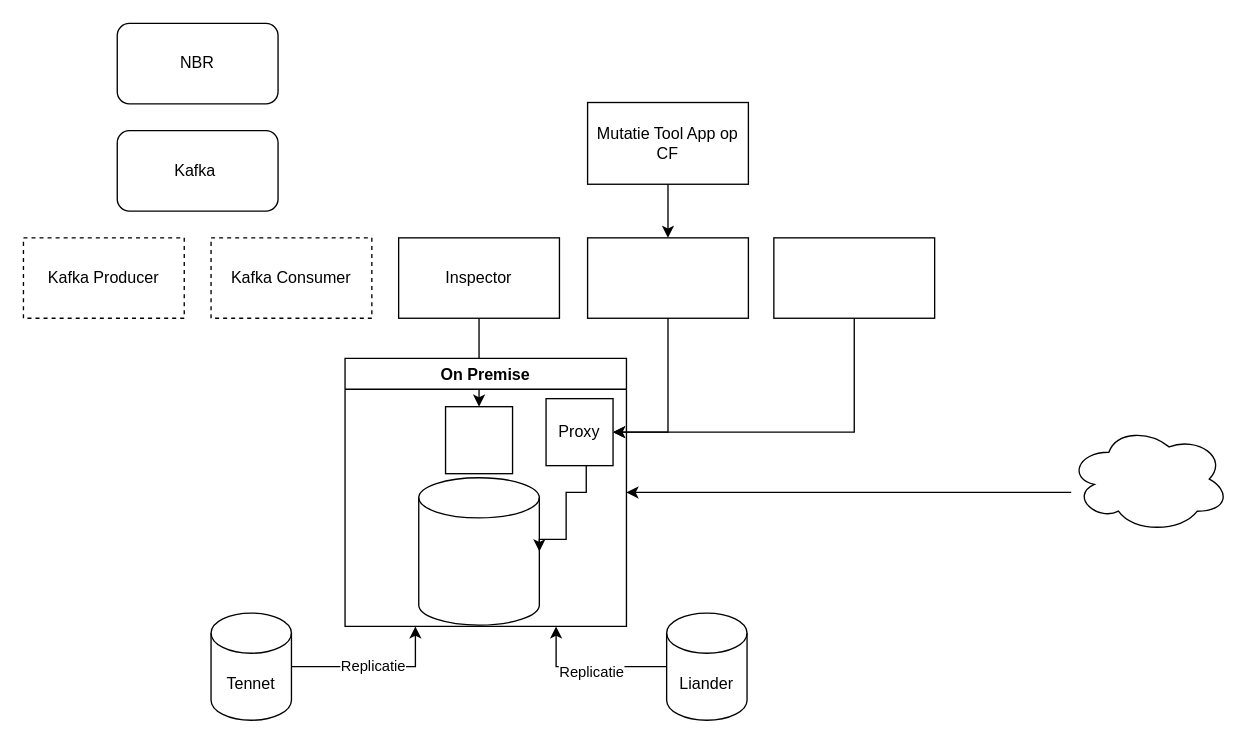
This 1253x744 diagram has some shape labels left out. Here are the shapes that lost their labels. From the top down, the centre of each, then its label:
pixel 667 277: Mutatie Tool Middleware op CF
pixel 854 277: APIs
pixel 478 439: Middle-ware
pixel 1148 478: Omicron
pixel 478 550: i-Core
